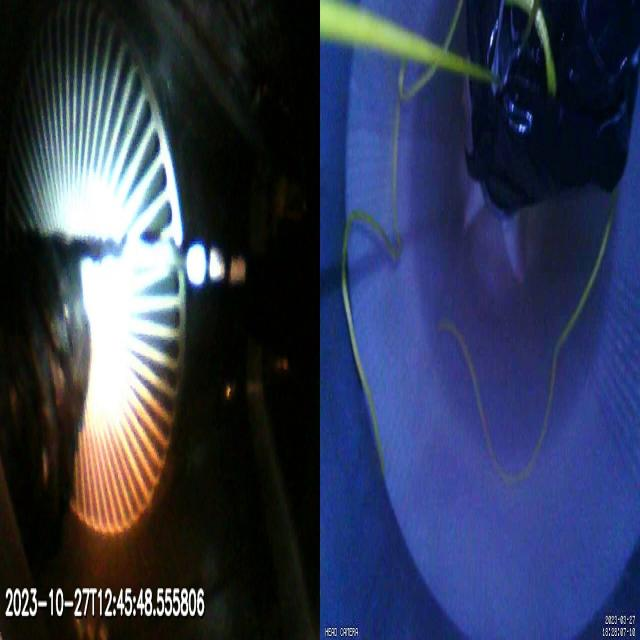white-dots: (187, 245, 244, 287)
